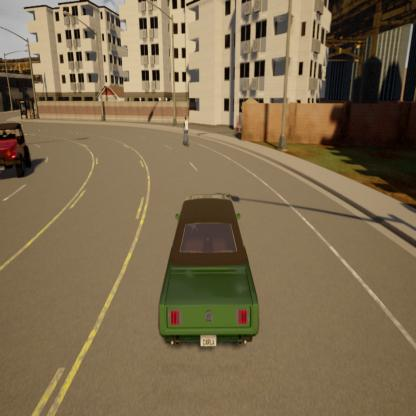Cars: (154, 193, 269, 356), (0, 116, 36, 177)
